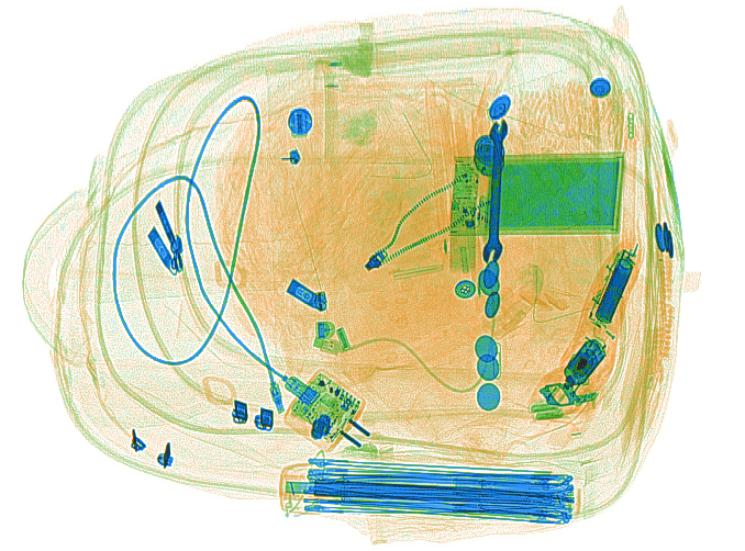battery: (593, 256, 633, 324)
